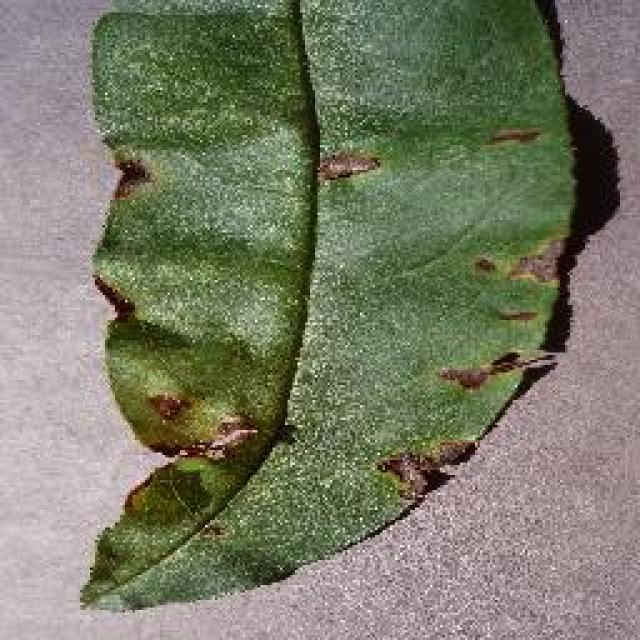Peach_Bacterial_Spot: (104, 108, 508, 545)
